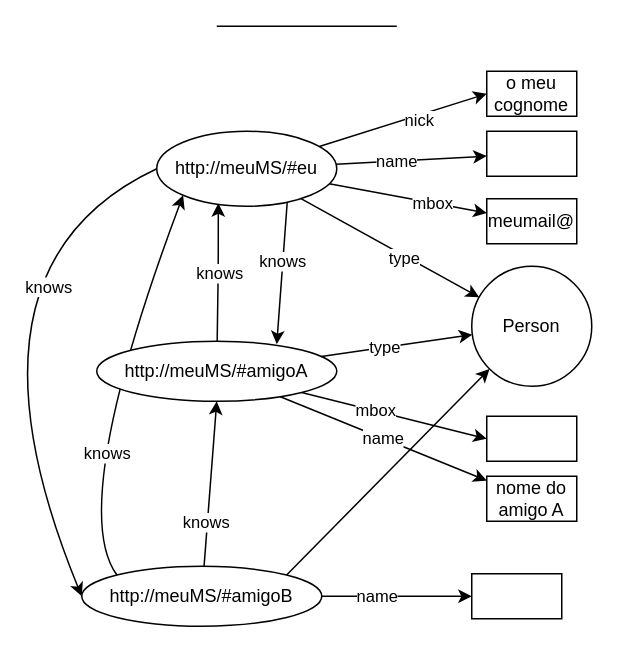
This 620x653 diagram has some shape labels left out. Each missing label, with the centre of its shape:
"amigoA@" goes at pixel 531 438.
"nome do amigo B" goes at pixel 516 595.
"o meu nome" goes at pixel 531 153.
